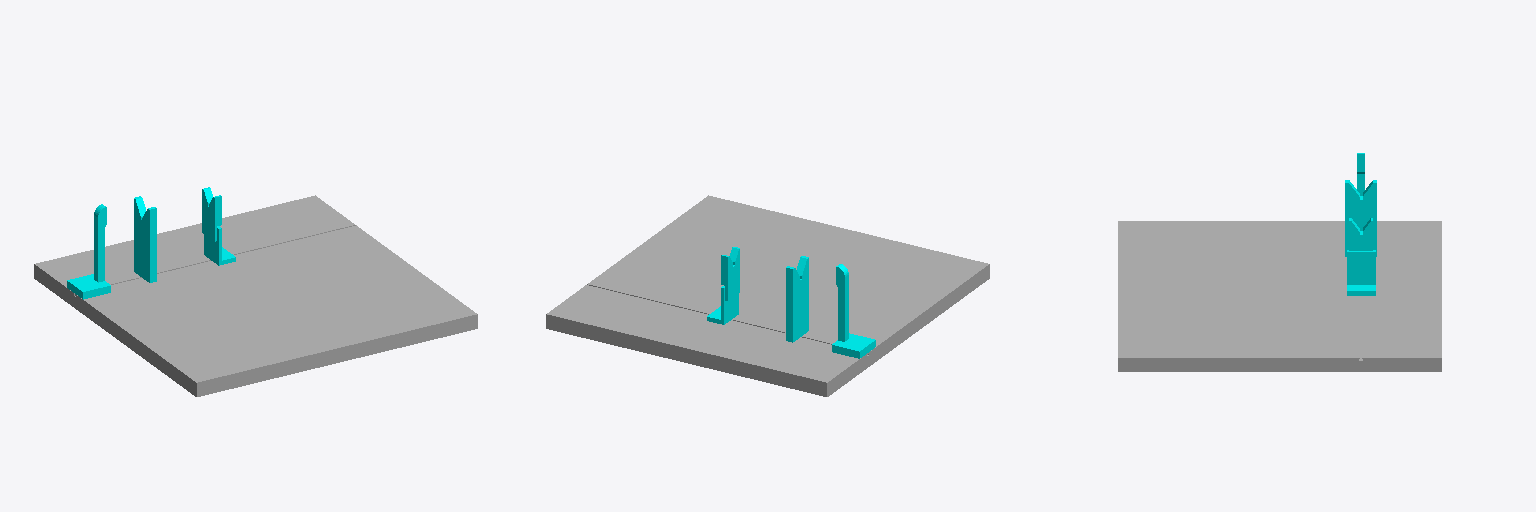
The picture shows the model from 3 angles: view 1: azimuth 30°, elevation 25°; view 2: azimuth 150°, elevation 25°; view 3: azimuth 270°, elevation 25°; orthographic projection.
Visible parts, largest first — view 1: NONE_DC_Shell; view 2: NONE_DC_Shell; view 3: NONE_DC_Shell.
Part boxes in pixels (left/top/right/bottom): NONE_DC_Shell: left=34, top=187, right=477, bottom=396; NONE_DC_Shell: left=546, top=195, right=989, bottom=396; NONE_DC_Shell: left=1118, top=153, right=1441, bottom=371.
Bounding box in the file's own units: 200 × 65 × 200.